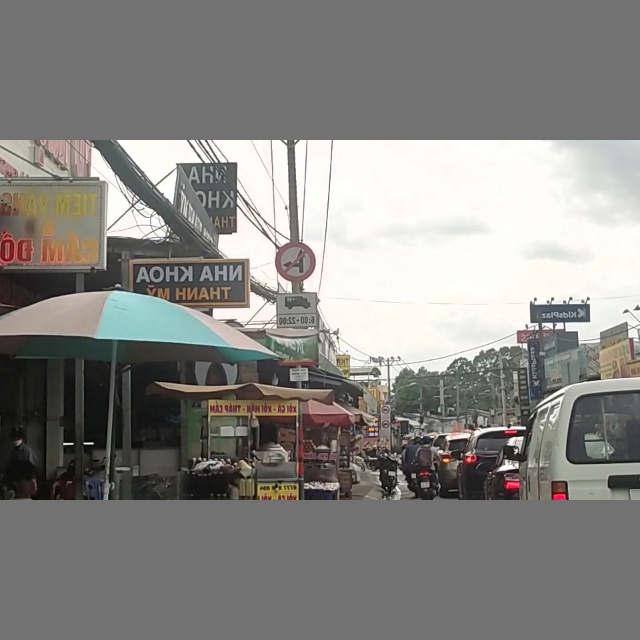P.139: (276, 241, 315, 280)
S.505a*Xe tai: (279, 292, 316, 325)
